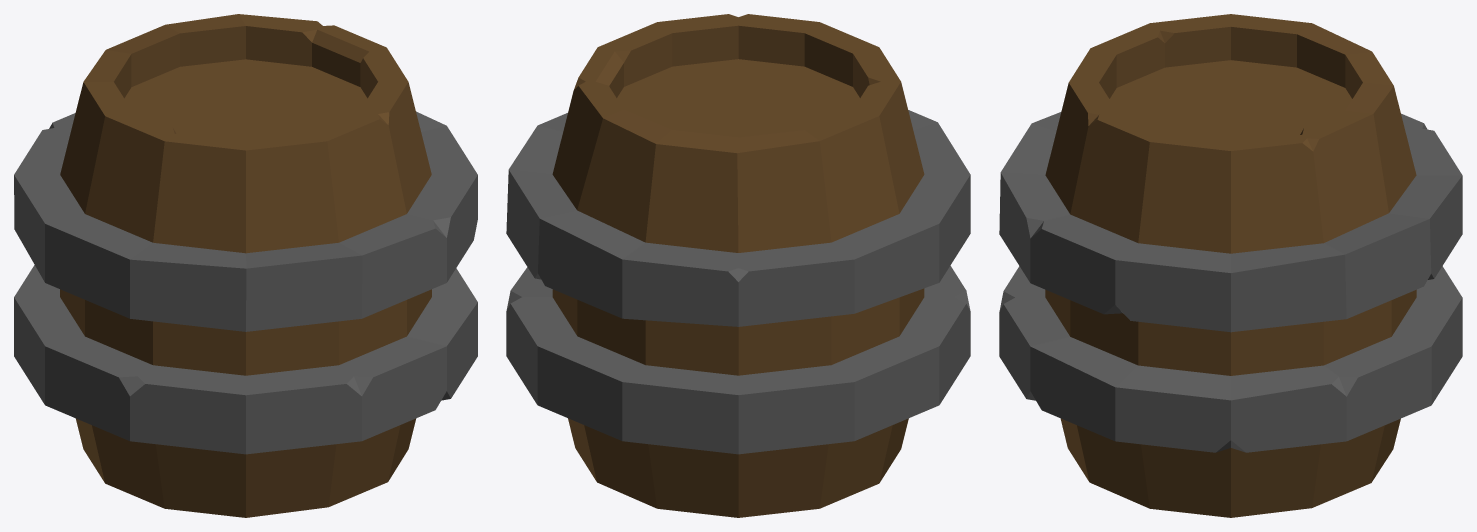
Rendered from Barrel.fbx.
3 views of the same model, side by side, from view 1: azimuth 30°, elevation 25°; view 2: azimuth 150°, elevation 25°; view 3: azimuth 270°, elevation 25° (orthographic).
Visible parts, largest first — view 1: Barrel.001; view 2: Barrel.001; view 3: Barrel.001.
Boxes of the visible parts, <box> form: Barrel.001: <box>14,14,477,517</box>; Barrel.001: <box>506,14,970,517</box>; Barrel.001: <box>999,14,1462,517</box>.
Bounding box in the file's own units: 229 × 200 × 229.
